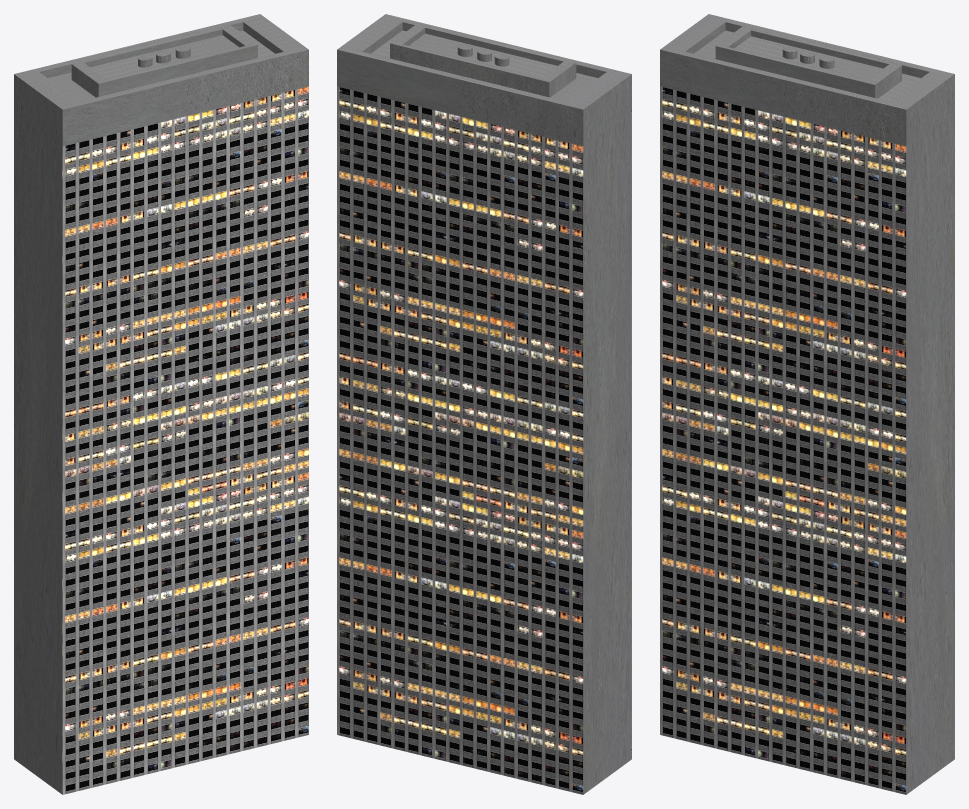
The model's file is ny-office-building-optimized2.glb.
3 views of the same model, side by side, from view 1: azimuth 30°, elevation 25°; view 2: azimuth 150°, elevation 25°; view 3: azimuth 330°, elevation 25° (orthographic).
Visible parts, largest first — view 1: Cube.061; view 2: Cube.061; view 3: Cube.061.
Part boxes in pixels (x1,y1,x2,y2): Cube.061: (14,14,308,794); Cube.061: (337,14,631,794); Cube.061: (660,14,954,794).
Bounding box in the file's own units: 69.73 × 188 × 23.88.
Materials: 1 (1 with a texture image).
